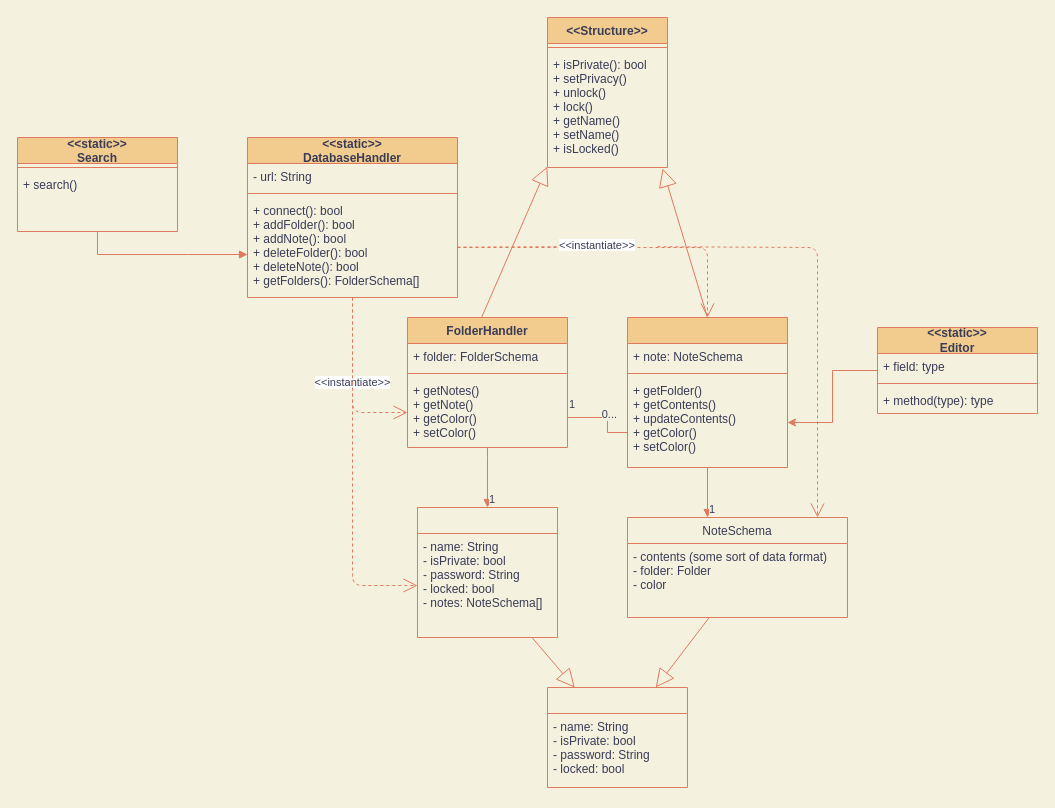
Some shapes in this 1055 by 808 pixel diagram are drawn without their labels. The box of each missing label's shape, as (x1, y1, x2, y2) in pixels:
FolderSchema: (416, 506, 558, 638)
NoteHandler: (626, 316, 788, 468)
StructureSchema: (546, 686, 688, 788)
